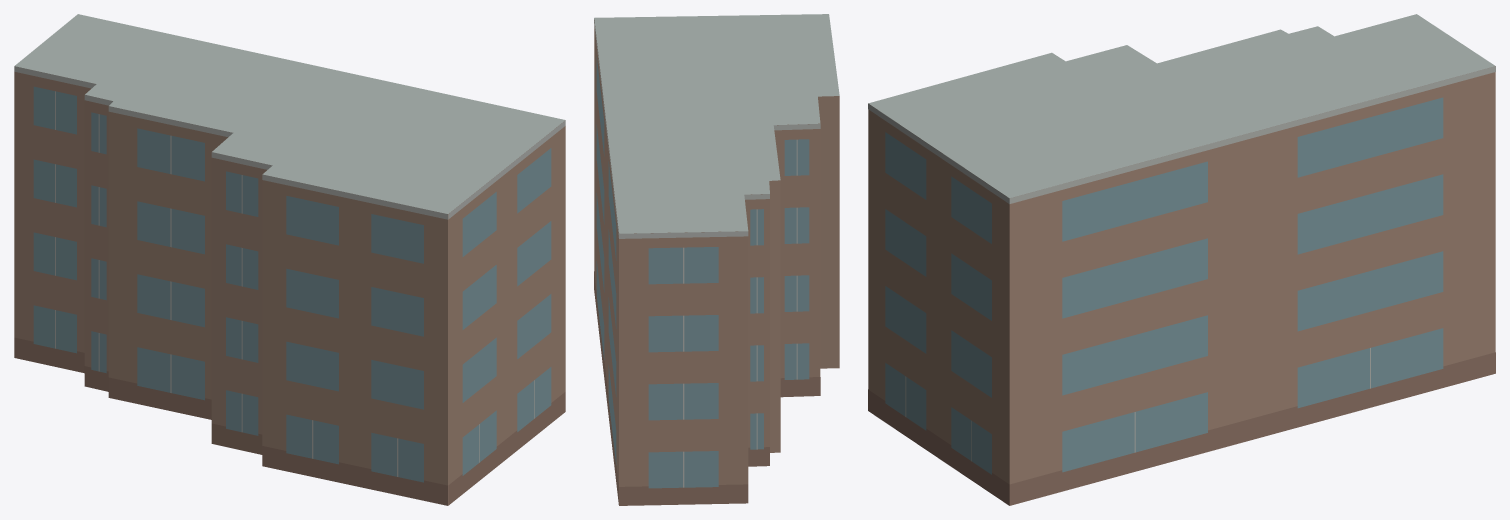
File: survey-upis-32495794.glb
3 views of the same model, side by side, from view 1: azimuth 30°, elevation 25°; view 2: azimuth 150°, elevation 25°; view 3: azimuth 270°, elevation 25° (orthographic). The views are drawn at different scales.
Visible parts, largest first — view 1: survey-upis-32495794.tmp; view 2: survey-upis-32495794.tmp; view 3: survey-upis-32495794.tmp.
Part boxes in pixels (x1,y1,x2,y2): survey-upis-32495794.tmp: (14, 14, 565, 505); survey-upis-32495794.tmp: (594, 14, 839, 505); survey-upis-32495794.tmp: (868, 14, 1495, 505).
Bounding box in the file's own units: 16.46 × 12.8 × 23.68.
